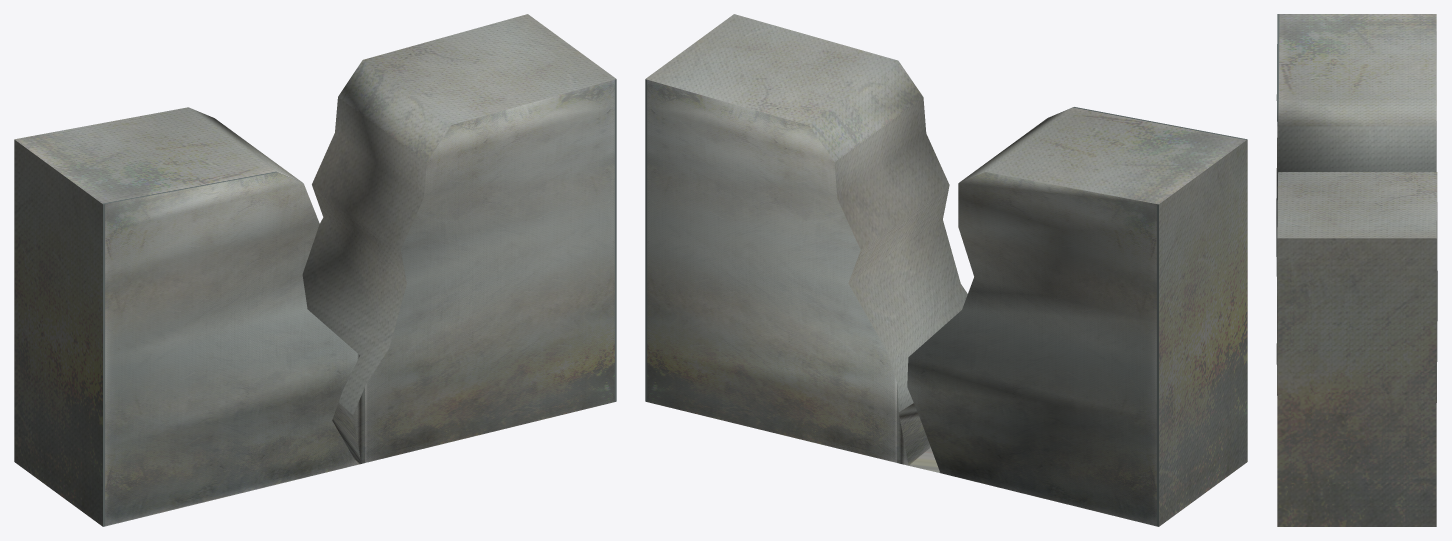
File: CrackedWall3.fbx
The picture shows the model from 3 angles, left to right: view 1: azimuth 30°, elevation 25°; view 2: azimuth 150°, elevation 25°; view 3: azimuth 270°, elevation 25°; orthographic projection. The views are drawn at different scales.
Visible parts, largest first — view 1: pCube1; view 2: pCube1; view 3: pCube1.
Boxes of the visible parts, x1,y1,x2,y2 form: pCube1: (14, 14, 616, 526); pCube1: (645, 14, 1247, 526); pCube1: (1276, 14, 1437, 526).
Size of the model in its own units: 40 by 24 by 12.17.
